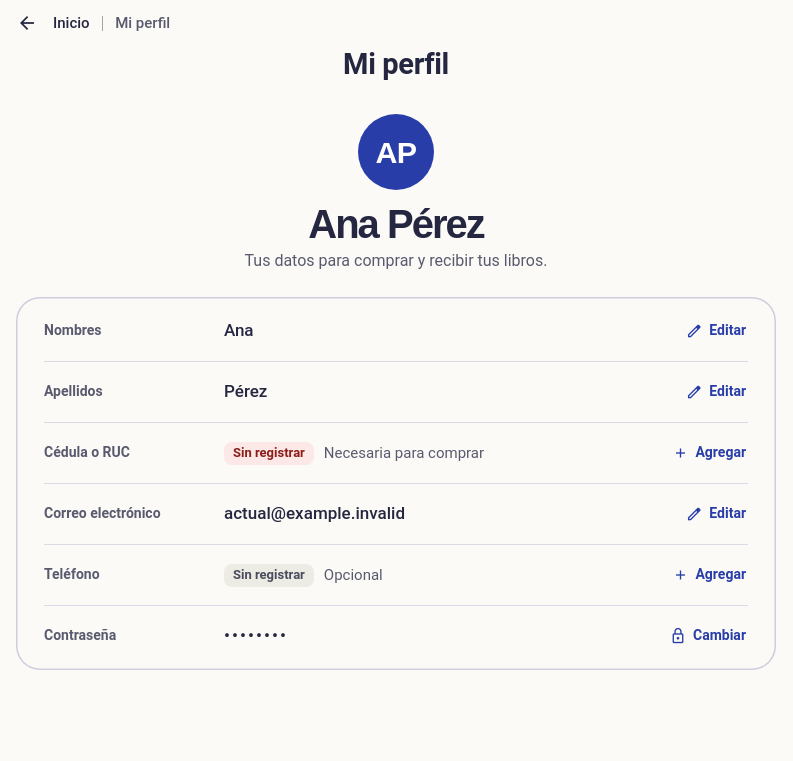
Test: keeps the step open after a definite rejection so the reader can try again
The width and height of the screenshot is (793, 761).
Click the button named "Cambiar contraseña". click: (708, 636)
box: left=659, top=614, right=758, bottom=658
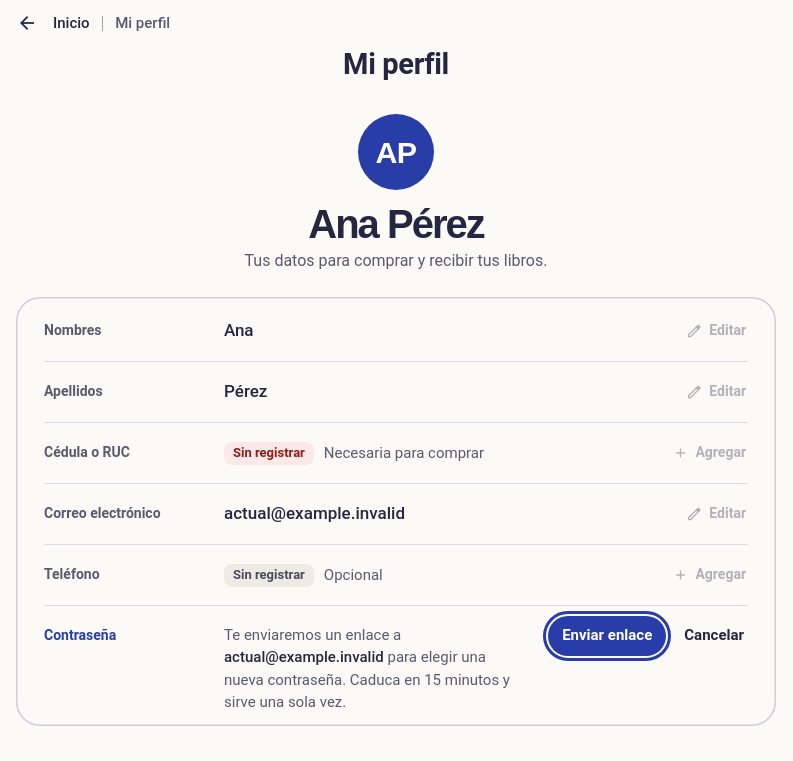
Click the button "Enviar enlace". click: (607, 636)
box: left=548, top=616, right=666, bottom=656
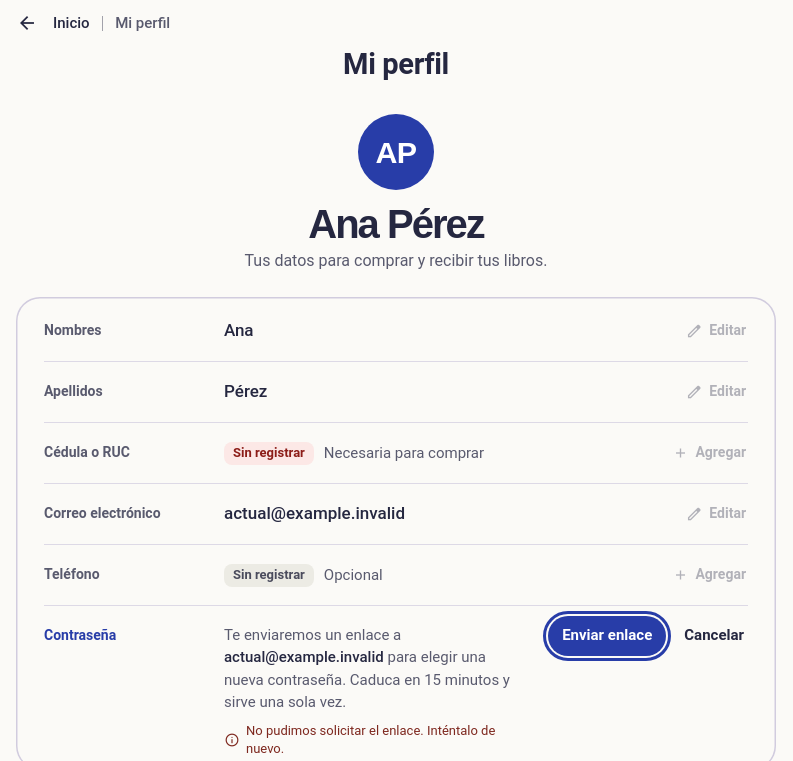
Expected: the message reads "No pudimos solicitar el enlace. Inténtalo de nuevo.", left=246, top=723, right=495, bottom=756
Click the button "Enviar enlace". click: (607, 636)
box: left=548, top=616, right=666, bottom=656
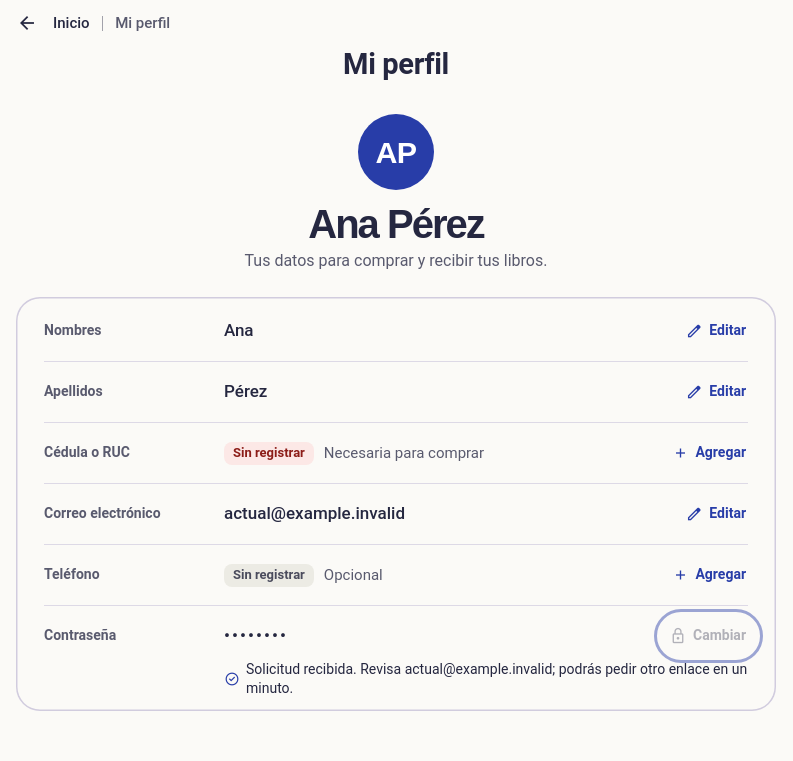
Expected: the message shows "Solicitud recibida", left=246, top=661, right=747, bottom=696
